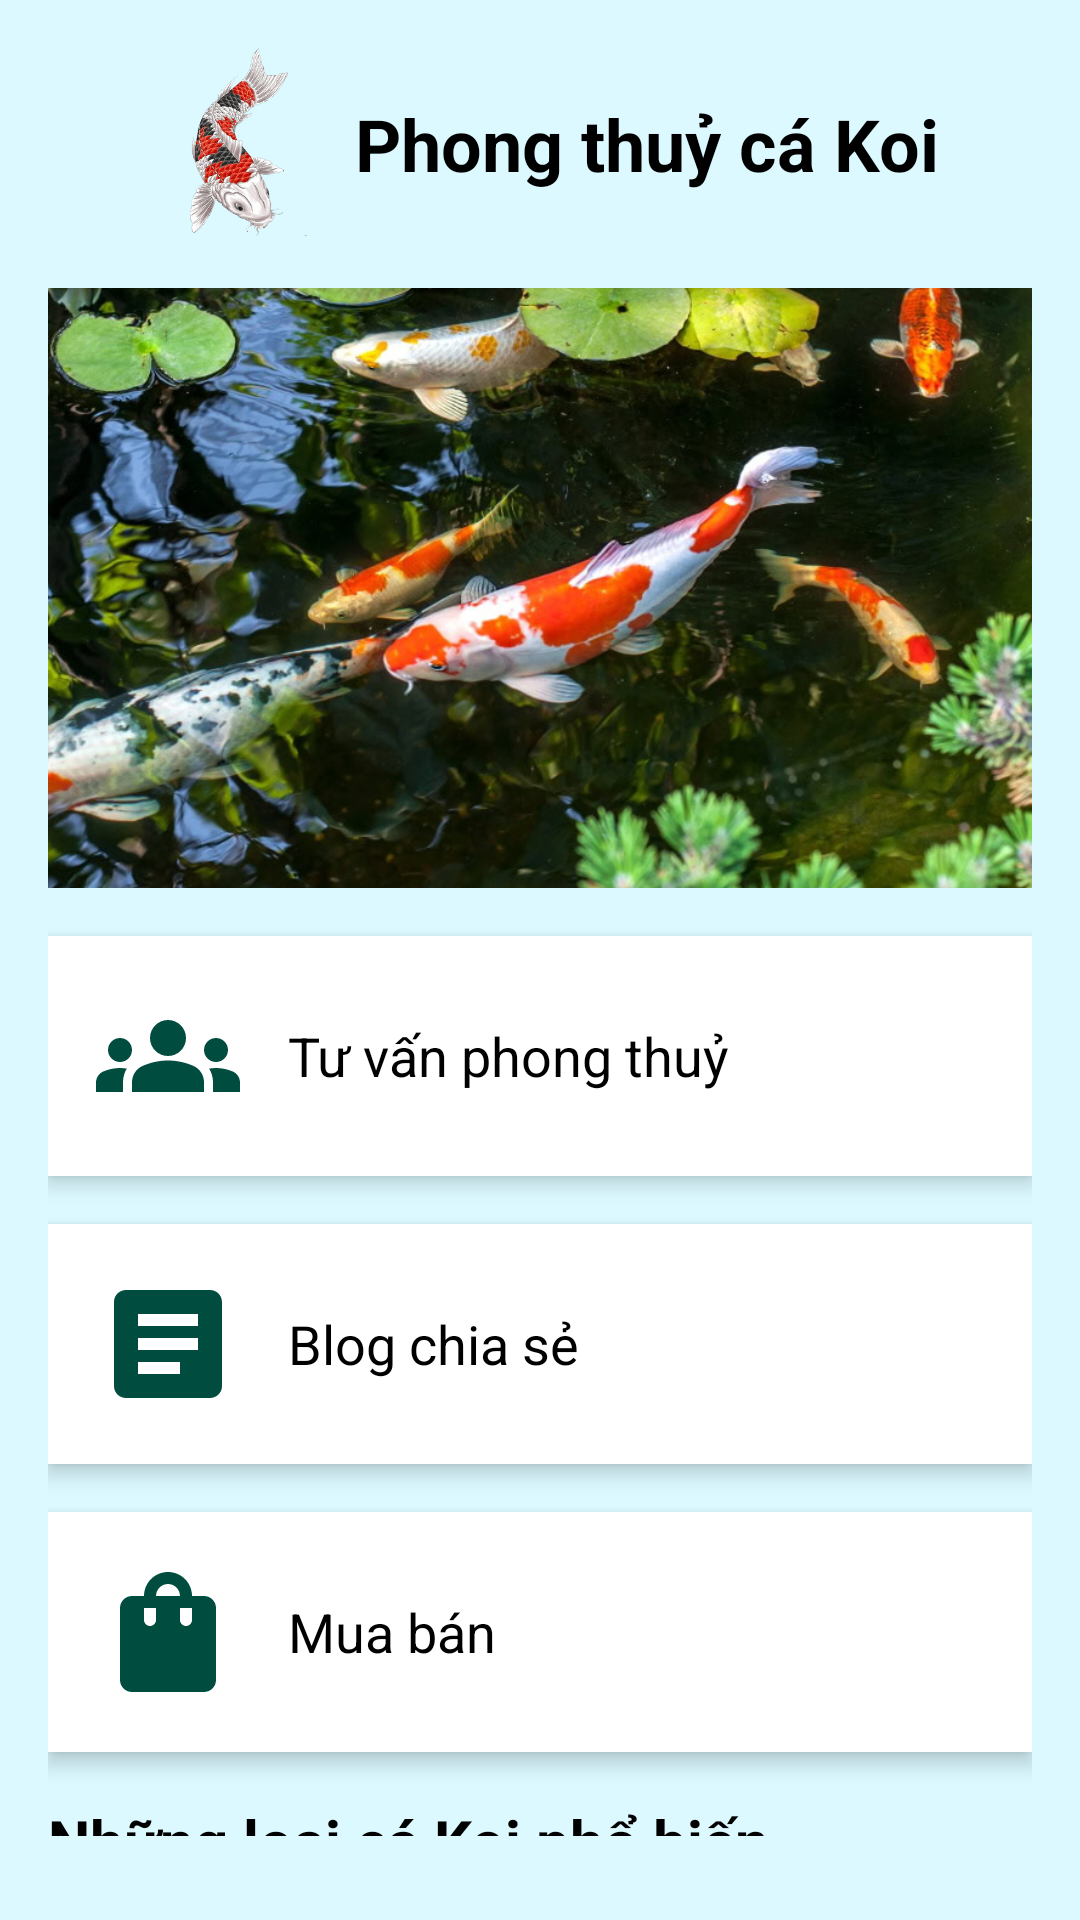

Icons on this 1080*1920 Android screen, each with its box as (x1, y1, x2, y2):
Articles: (114, 1290, 222, 1398)
Consultation: (96, 1020, 240, 1092)
Shop: (120, 1572, 216, 1692)
